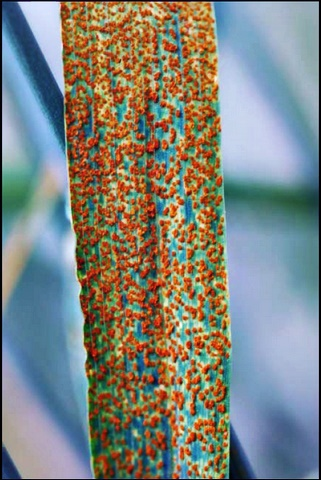Leaf Rust: (61, 9, 238, 476)
